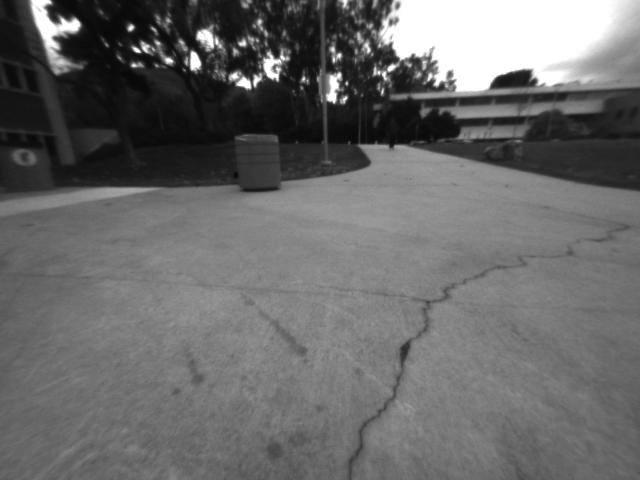trashcan: (233, 131, 286, 201), (1, 142, 50, 187)
